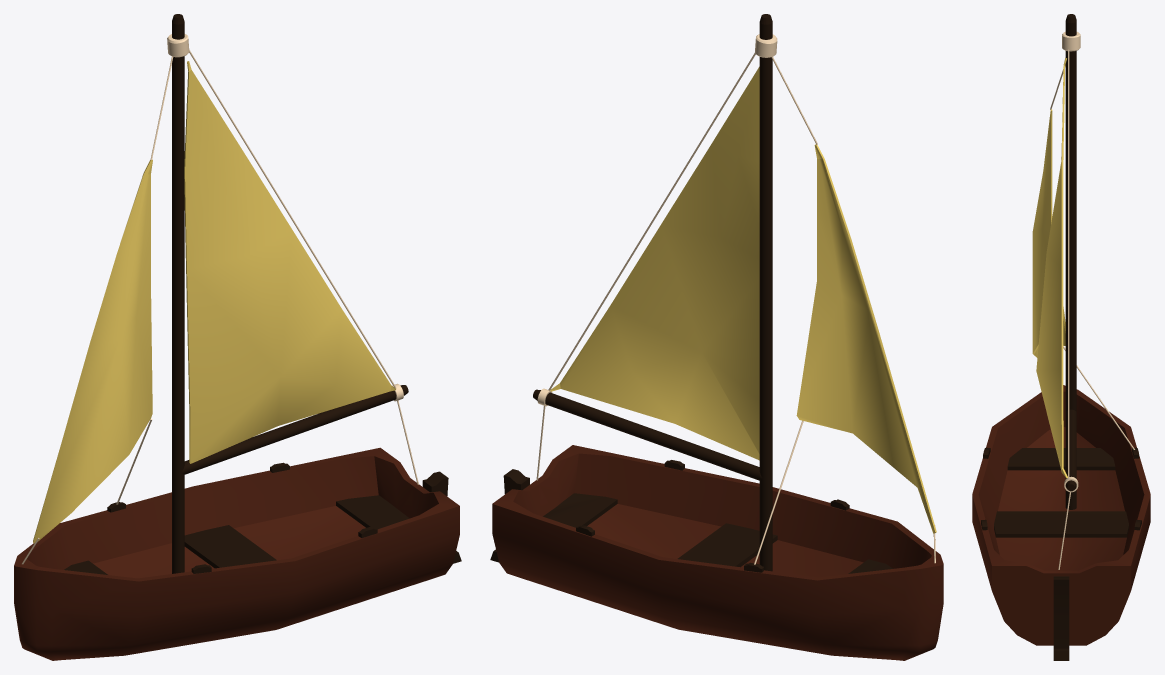
File: boat.FBX
3 renders of one model, left to right at view 1: azimuth 30°, elevation 25°; view 2: azimuth 150°, elevation 25°; view 3: azimuth 270°, elevation 25°, orthographic. The views are drawn at different scales.
Visible parts, largest first — view 1: hull001; view 2: hull001; view 3: hull001.
Boxes of the visible parts, x1=… form: hull001: x1=14, y1=14, x2=461, y2=660; hull001: x1=490, y1=14, x2=943, y2=660; hull001: x1=972, y1=14, x2=1150, y2=660.
Size of the model in its own units: 107 by 42.63 by 142.
